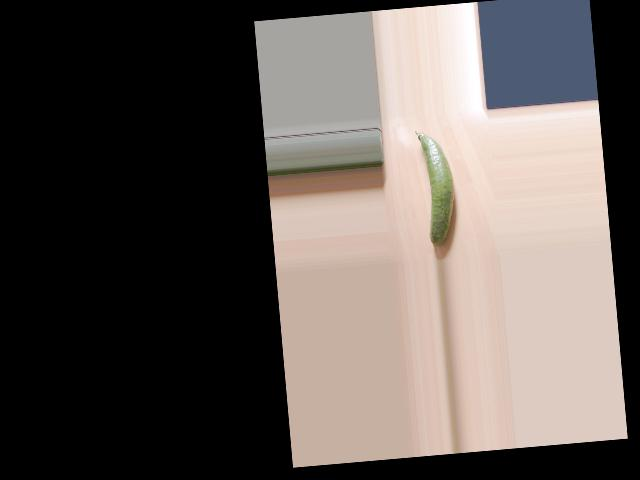cucumber: (415, 127, 459, 248)
